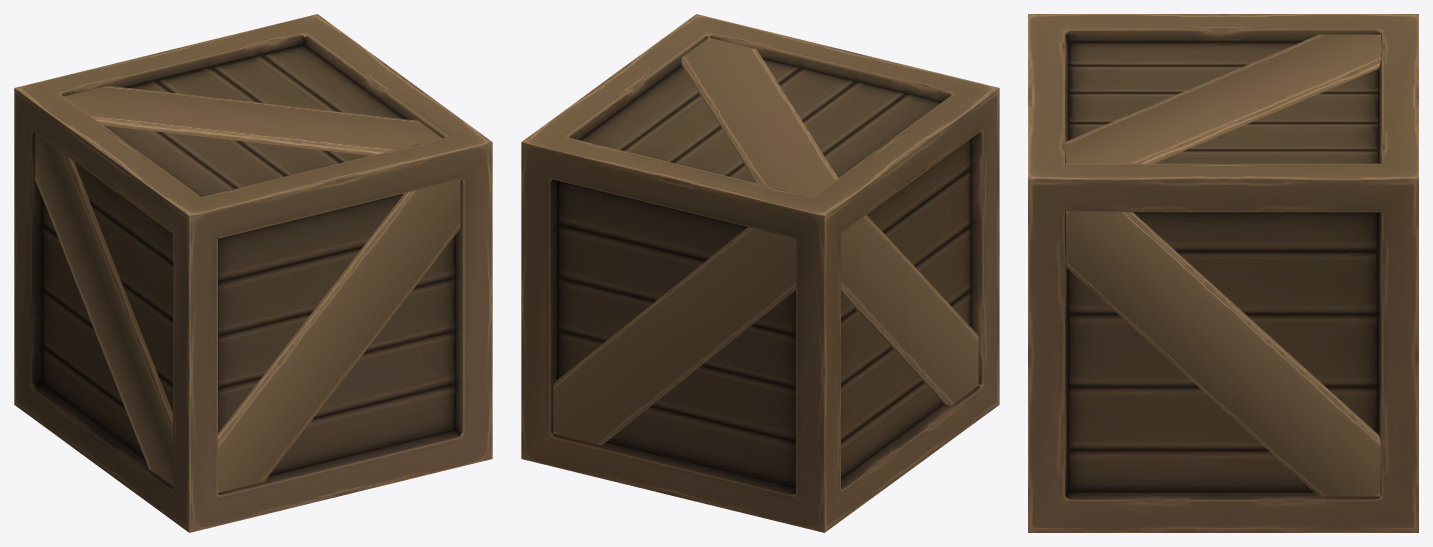
Rendered from SM_Crate_01.glb.
3 views of the same model, side by side, from view 1: azimuth 30°, elevation 25°; view 2: azimuth 150°, elevation 25°; view 3: azimuth 270°, elevation 25° (orthographic). The views are drawn at different scales.
Parts seen in each view (by area): view 1: SM_Crate_01; view 2: SM_Crate_01; view 3: SM_Crate_01.
Boxes of the visible parts, x1,y1,x2,y2 form: SM_Crate_01: [14, 14, 492, 532]; SM_Crate_01: [521, 14, 999, 532]; SM_Crate_01: [1028, 14, 1418, 532].
Bounding box in the file's own units: 0.4934 × 0.4926 × 0.4934.
1 material, 1 textured.
